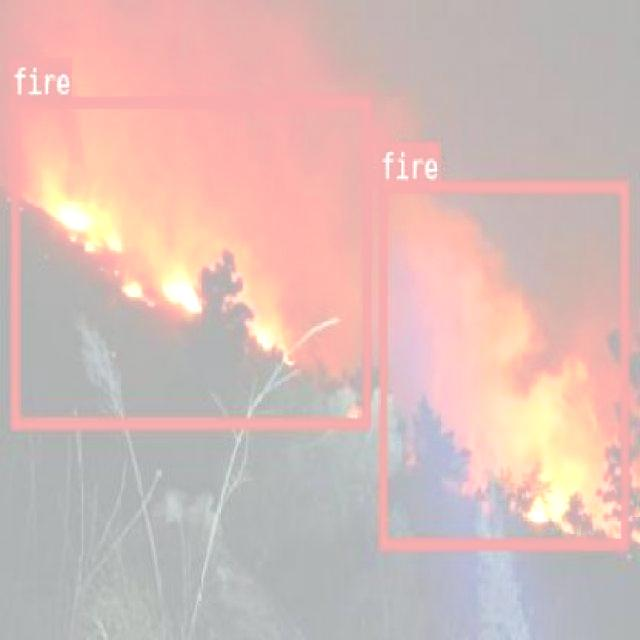fire: (11, 95, 368, 428), (378, 180, 626, 548)
